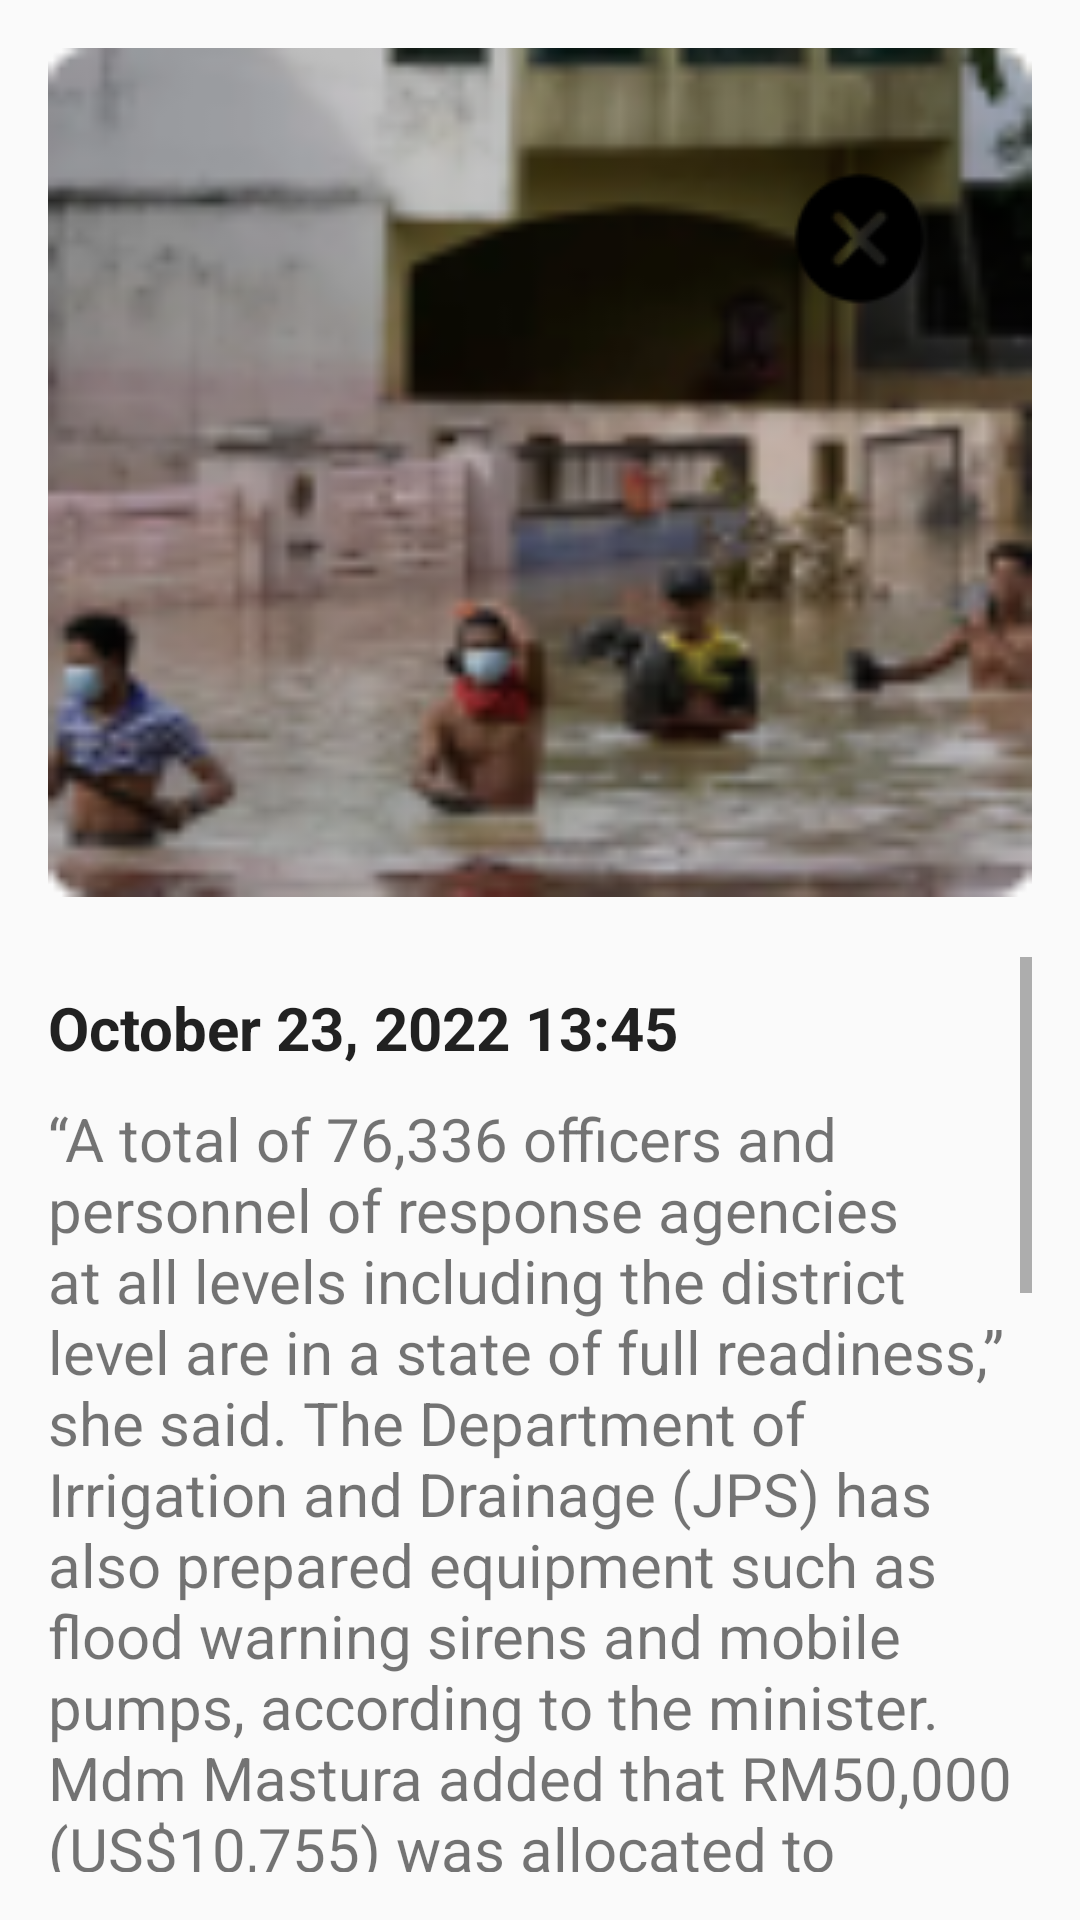

Screen size 1080×1920. Icon name, then its center in pixels as (x=x, y=y):
cancel: (x=859, y=238)
